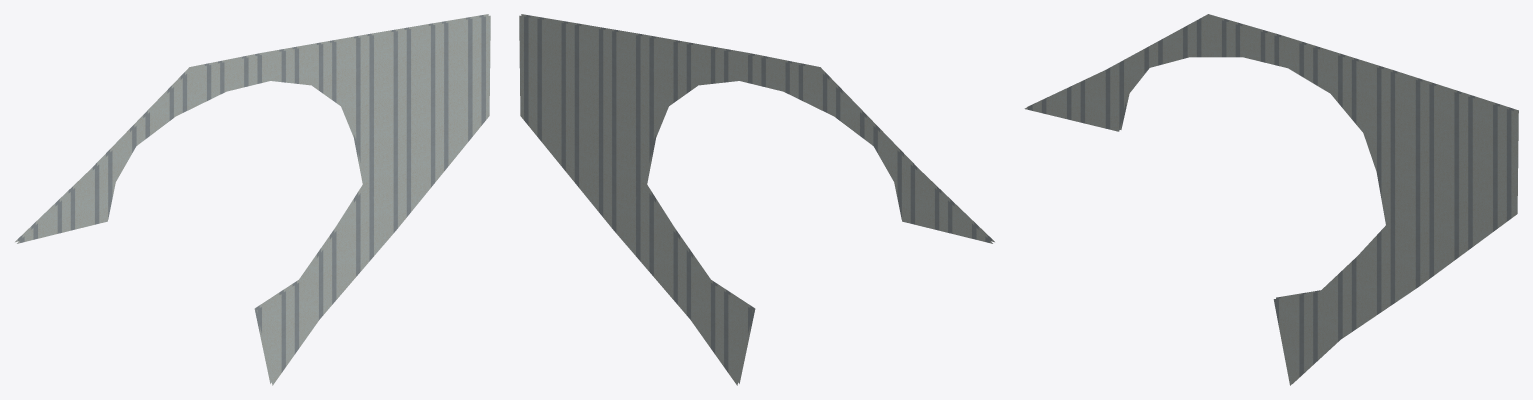
File: floor_59.obj
3 views of the same model, side by side, from view 1: azimuth 30°, elevation 25°; view 2: azimuth 150°, elevation 25°; view 3: azimuth 330°, elevation 25° (orthographic). The views are drawn at different scales.
Parts seen in each view (by area): view 1: floor_59; view 2: floor_59; view 3: floor_59.
Part boxes in pixels (<box>): floor_59: <box>15,14,490,385</box>; floor_59: <box>519,14,994,385</box>; floor_59: <box>1024,14,1518,385</box>.
Bounding box in the file's own units: 12.71 × 8.63 × 0.1.
Materials: 1 (1 with a texture image).
